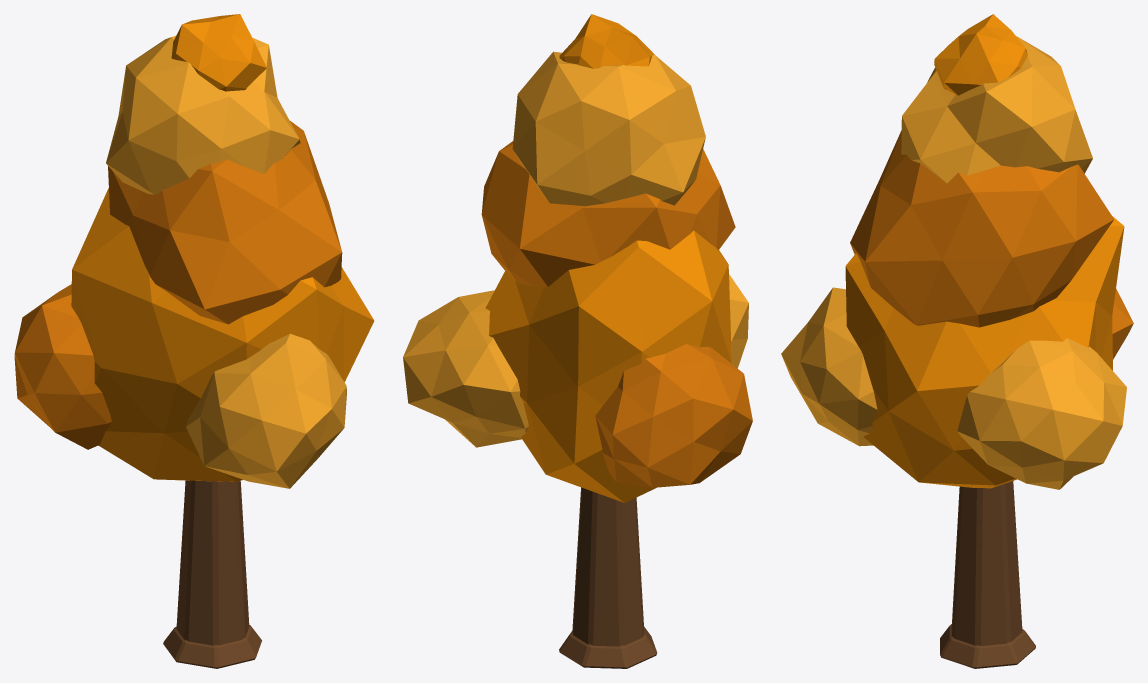
File: tree_autumn_c.glb
3 renders of one model, left to right at view 1: azimuth 30°, elevation 25°; view 2: azimuth 150°, elevation 25°; view 3: azimuth 270°, elevation 25°, orthographic.
Visible parts, largest first — view 1: tree_autumn_c; view 2: tree_autumn_c; view 3: tree_autumn_c.
Boxes of the visible parts, left/top/right/bottom form: tree_autumn_c: left=14, top=14, right=374, bottom=668; tree_autumn_c: left=403, top=14, right=752, bottom=668; tree_autumn_c: left=781, top=14, right=1133, bottom=668.
Size of the model in its own units: 4.42 by 8.15 by 4.16.
